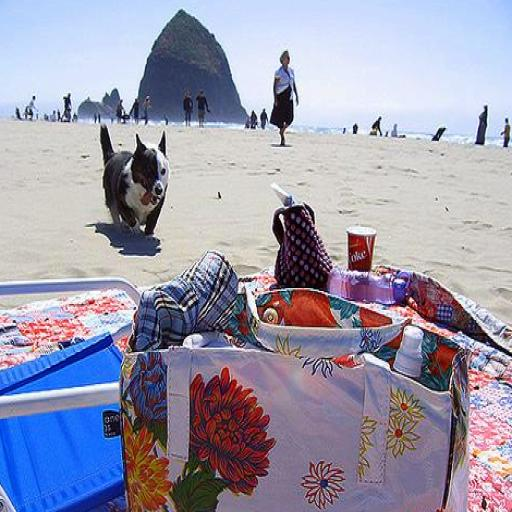dog_face: (132, 132, 175, 210)
